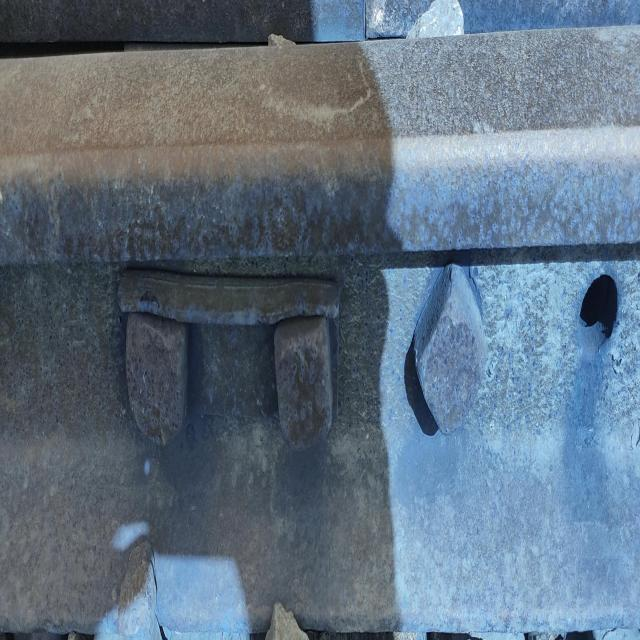Defective Joint: (114, 242, 629, 504)
